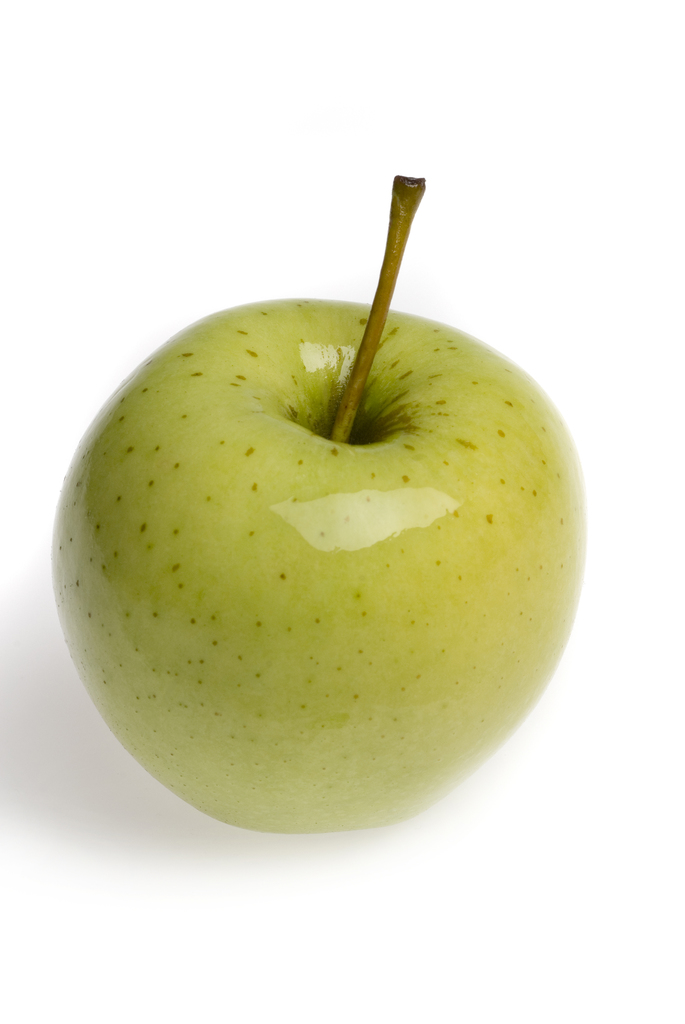Apple: (58, 226, 596, 856)
